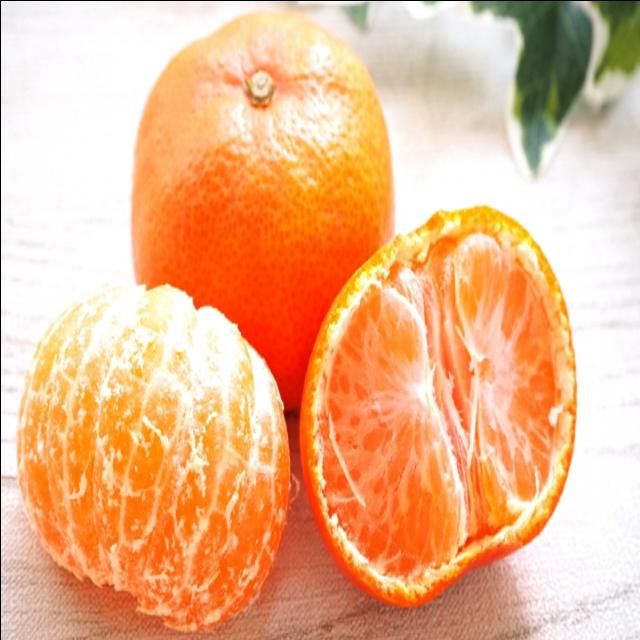Orange: (296, 199, 578, 610), (127, 8, 396, 404), (13, 284, 292, 618)
